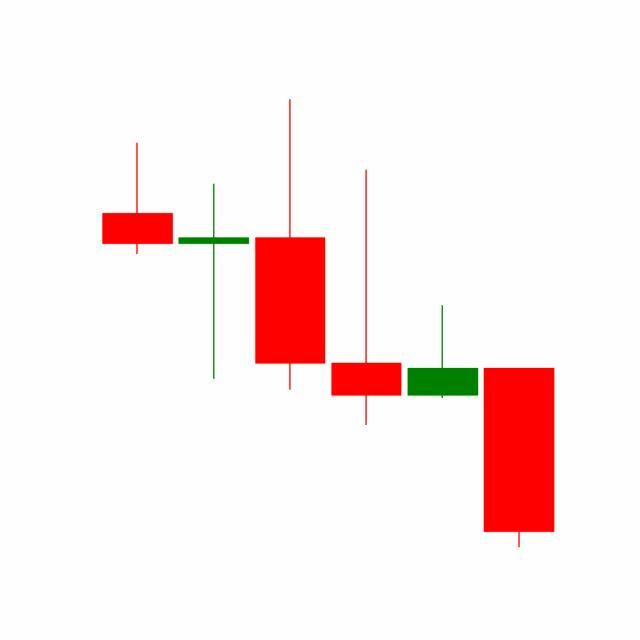Gravestone Doji: (404, 304, 482, 400)
